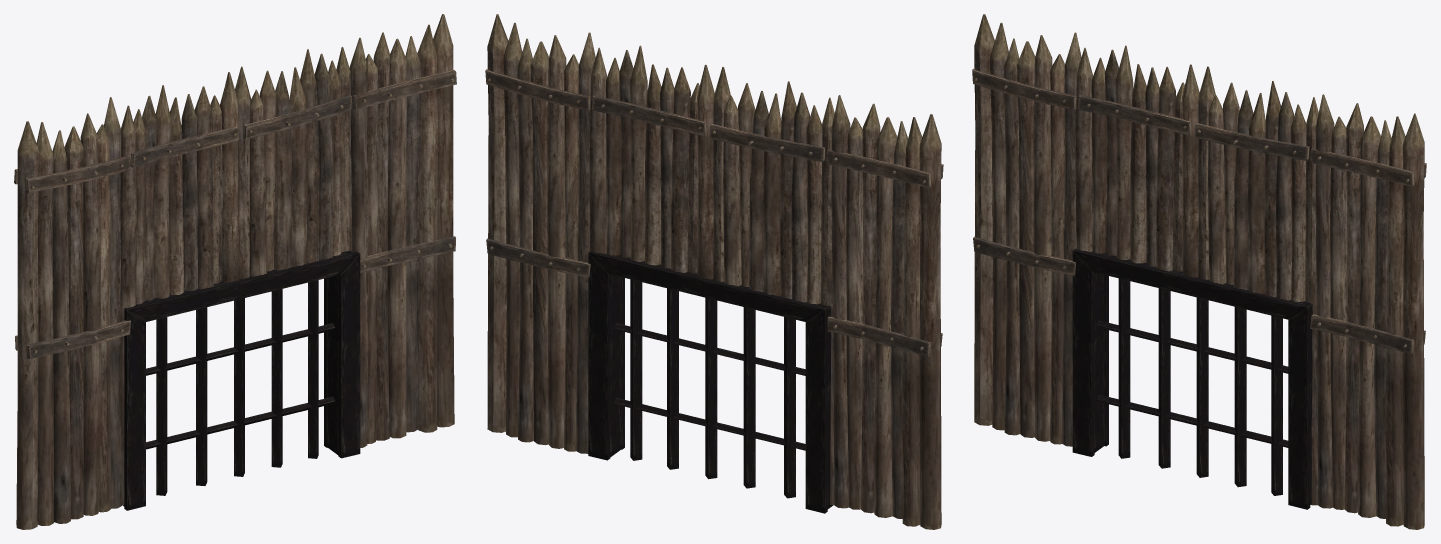
Rendered from jav_struc_def_log_t1_draingratewall-transformed.glb.
3 views of the same model, side by side, from view 1: azimuth 30°, elevation 25°; view 2: azimuth 150°, elevation 25°; view 3: azimuth 330°, elevation 25° (orthographic).
Visible parts, largest first — view 1: default; view 2: default; view 3: default.
Boxes of the visible parts, <box> form: default: <box>14,14,456,529</box>; default: <box>485,14,943,529</box>; default: <box>972,14,1426,529</box>.
Size of the model in its own units: 8.07 by 7.15 by 0.7515.
1 material, 1 textured.
